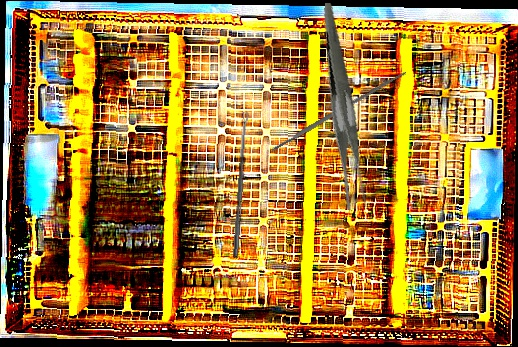Dressing Forceps: (290, 2, 400, 213)
Scalpel Handle: (269, 69, 408, 153)
Surgical Spoon: (232, 111, 250, 259)
